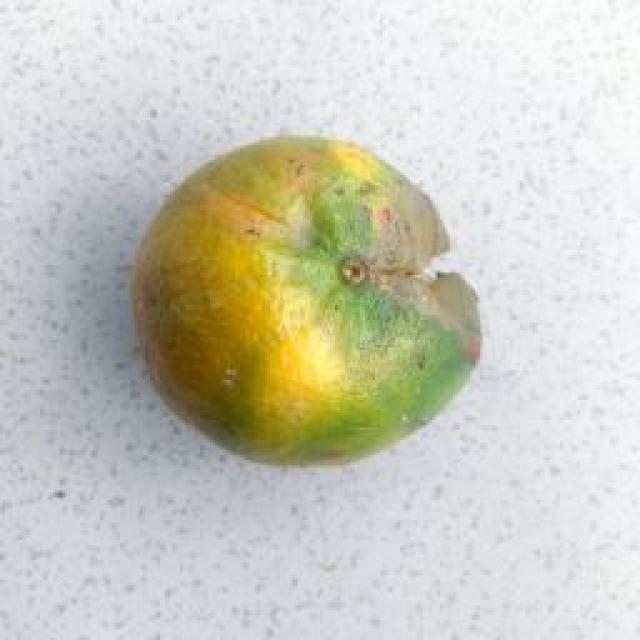Bad_Orange: (131, 136, 479, 463)
